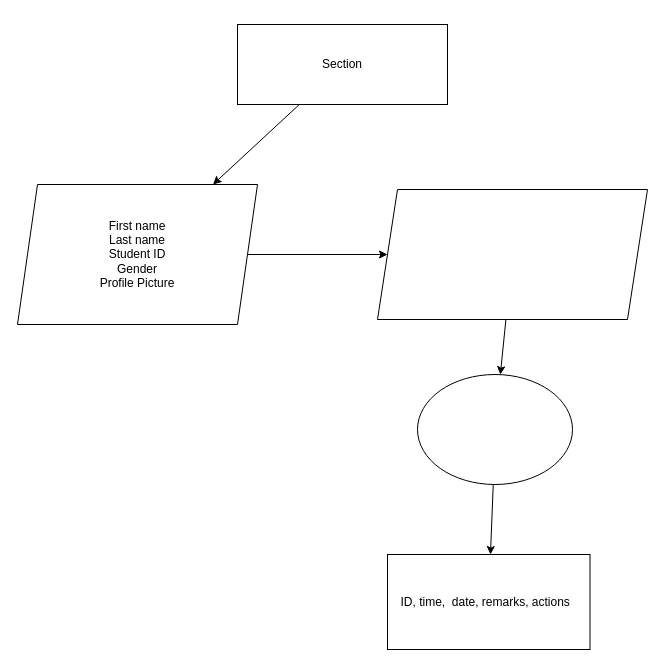
The diagram is 665 pixels wide and 667 high, and some of its shapes have lost their labels. Here are the shapes that lost their labels. From the top down, the centre of each, then its label:
At [512,254]: "Account First name Last name Studen ID gneder Profile Picture".
At [494,429]: "Open, Edit, Delete".
